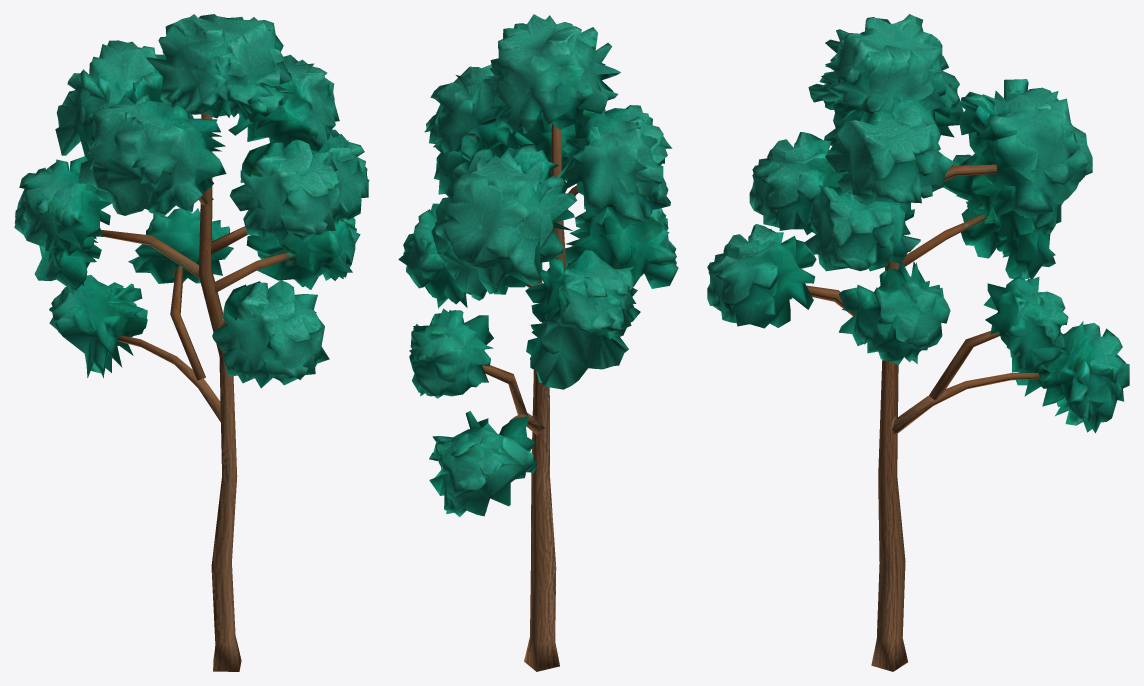
File: tree_green.glb
3 renders of one model, left to right at view 1: azimuth 30°, elevation 25°; view 2: azimuth 150°, elevation 25°; view 3: azimuth 270°, elevation 25°, orthographic. The views are drawn at different scales.
Parts seen in each view (by area): view 1: tripo_node_675e9bf3-cc38-4858-880e-0fda59e953ef; view 2: tripo_node_675e9bf3-cc38-4858-880e-0fda59e953ef; view 3: tripo_node_675e9bf3-cc38-4858-880e-0fda59e953ef.
Part boxes in pixels (x1,y1,x2,y2): tripo_node_675e9bf3-cc38-4858-880e-0fda59e953ef: [14, 14, 369, 671]; tripo_node_675e9bf3-cc38-4858-880e-0fda59e953ef: [398, 14, 678, 671]; tripo_node_675e9bf3-cc38-4858-880e-0fda59e953ef: [707, 14, 1129, 671].
Size of the model in its own units: 0.4512 by 0.998 by 0.6035.
1 material, 1 textured.
